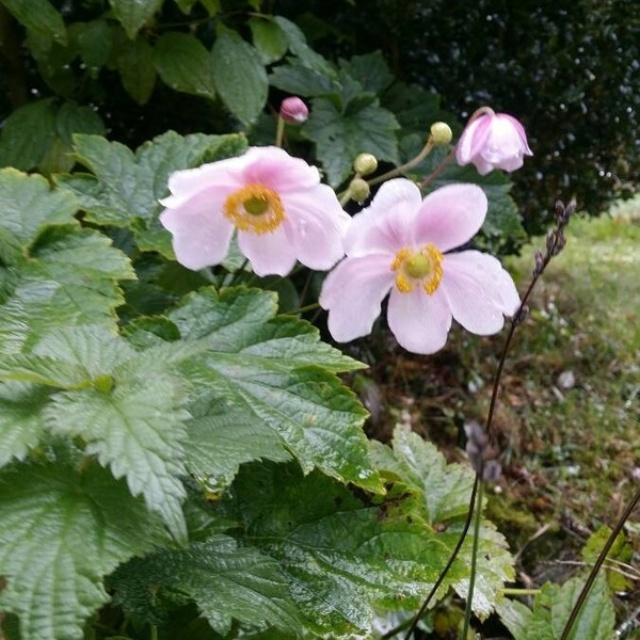obstacle: (17, 145, 415, 624), (113, 6, 544, 371)
